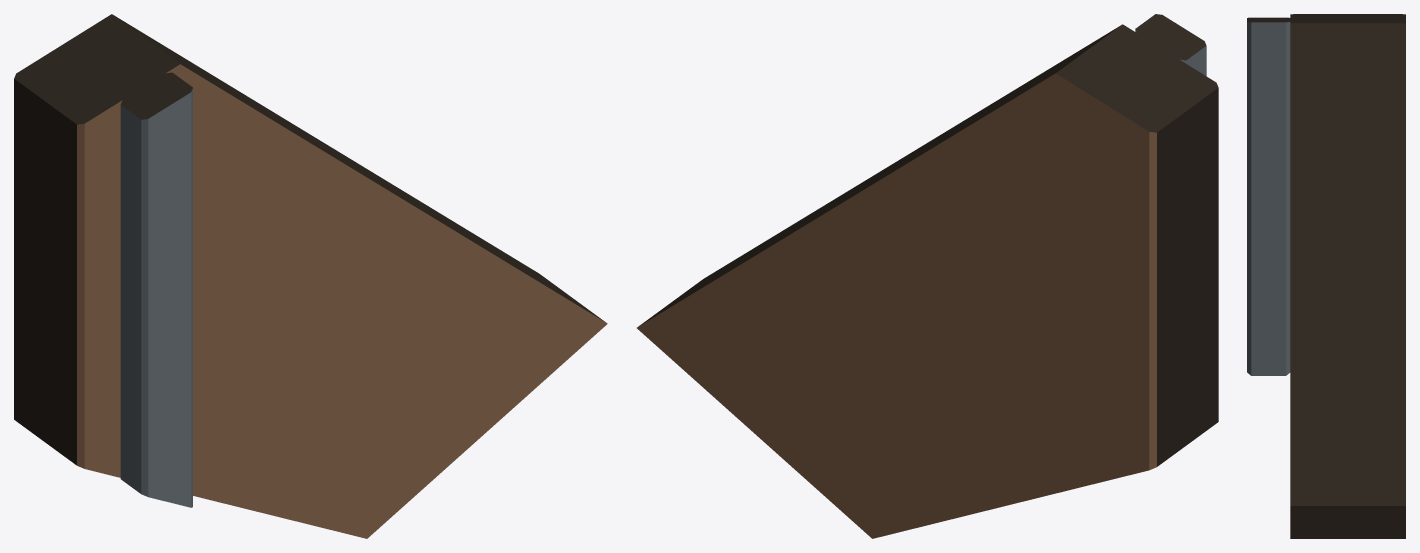
Rendered from SM_DoorShard_02_51.fbx.
3 renders of one model, left to right at view 1: azimuth 30°, elevation 25°; view 2: azimuth 150°, elevation 25°; view 3: azimuth 270°, elevation 25°, orthographic. The views are drawn at different scales.
Parts seen in each view (by area): view 1: SM_DoorShard_02_51; view 2: SM_DoorShard_02_51; view 3: SM_DoorShard_02_51.
Part boxes in pixels (x1=…): SM_DoorShard_02_51: x1=14, y1=14, x2=607, y2=538; SM_DoorShard_02_51: x1=637, y1=14, x2=1218, y2=538; SM_DoorShard_02_51: x1=1247, y1=14, x2=1405, y2=538.
Size of the model in its own units: 71.19 by 22 by 67.05.
